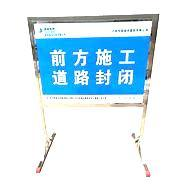sign: (34, 24, 154, 105)
